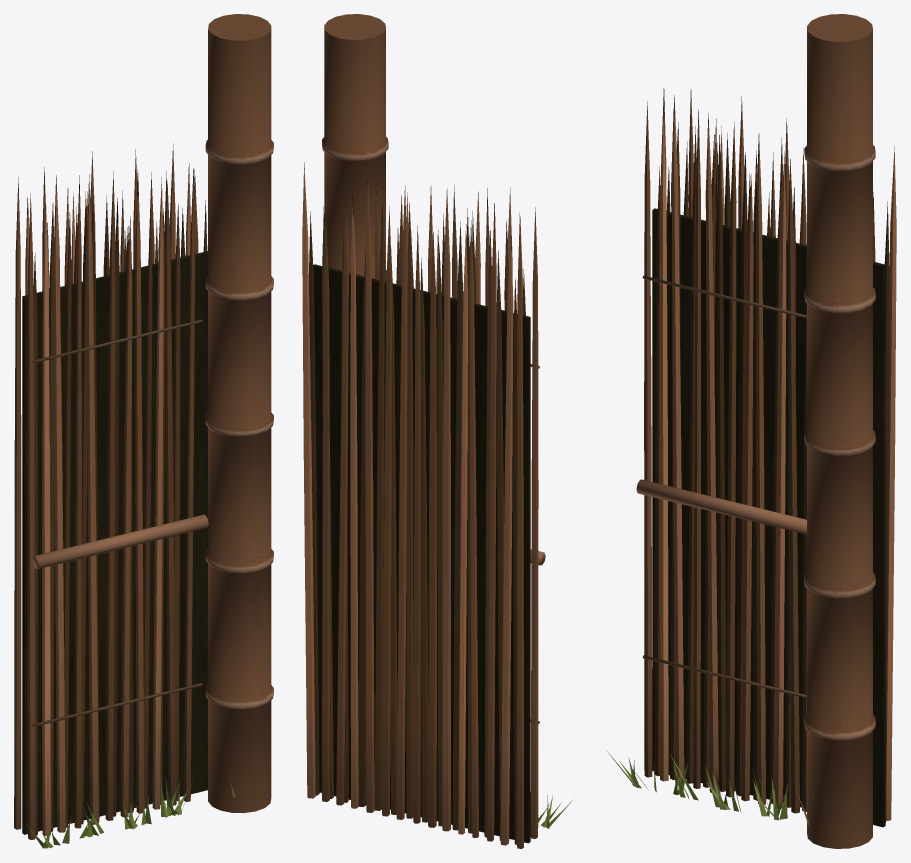
The model's file is fence_reed_end_e_tall_hd.glb.
The picture shows the model from 3 angles, left to right: view 1: azimuth 30°, elevation 25°; view 2: azimuth 150°, elevation 25°; view 3: azimuth 330°, elevation 25°; orthographic projection. The views are drawn at different scales.
Visible parts, largest first — view 1: fence_reed_end_e_tall; view 2: fence_reed_end_e_tall; view 3: fence_reed_end_e_tall.
Part boxes in pixels (left/top/right/bottom): fence_reed_end_e_tall: left=14, top=14, right=273, bottom=848; fence_reed_end_e_tall: left=302, top=14, right=572, bottom=848; fence_reed_end_e_tall: left=606, top=14, right=896, bottom=848.
Size of the model in its own units: 0.6322 by 1.87 by 0.2028.
1 material, 1 textured.
